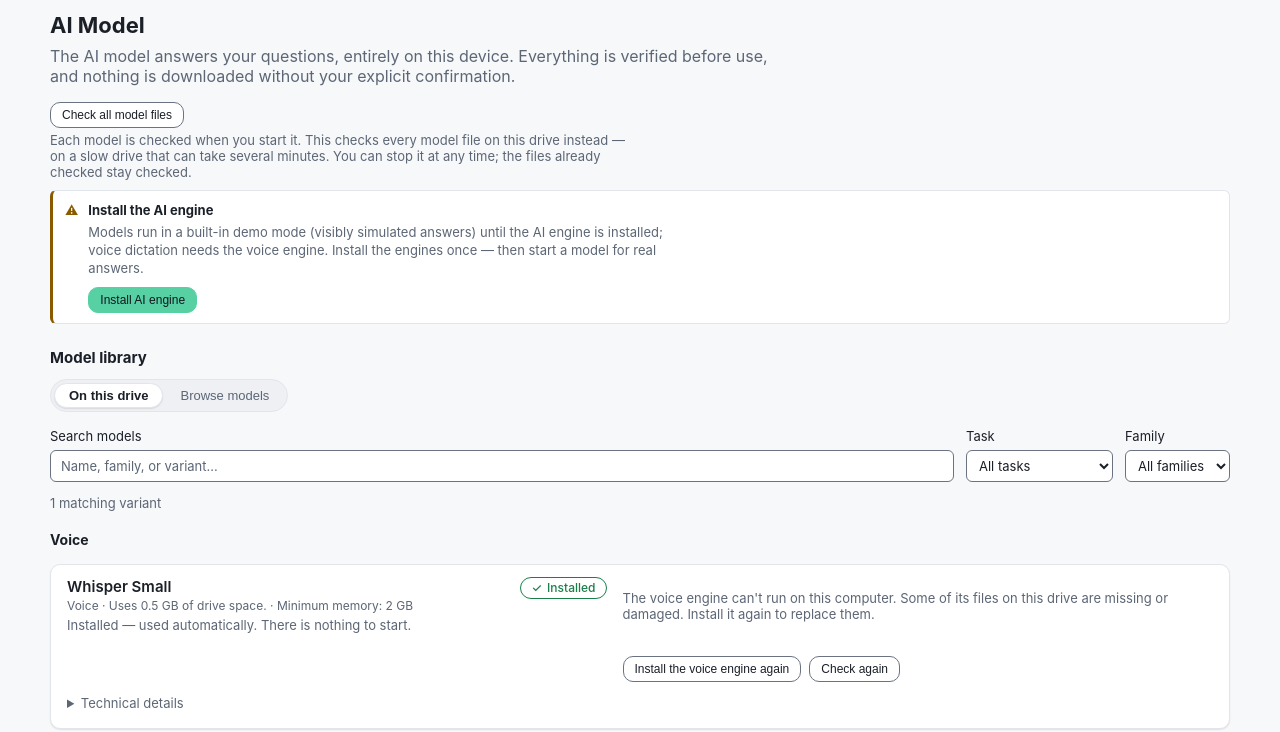
ModelsScreen — engine problem banner (#530) › Install the engine again (#532) › the voice engine hint offers its own quieter reinstall, and its progress stays on the speech-model card
This screenshot has width=1280, height=732.
Click the button "Install the voice engine again" at point(712, 669), box [622,656,801,682]
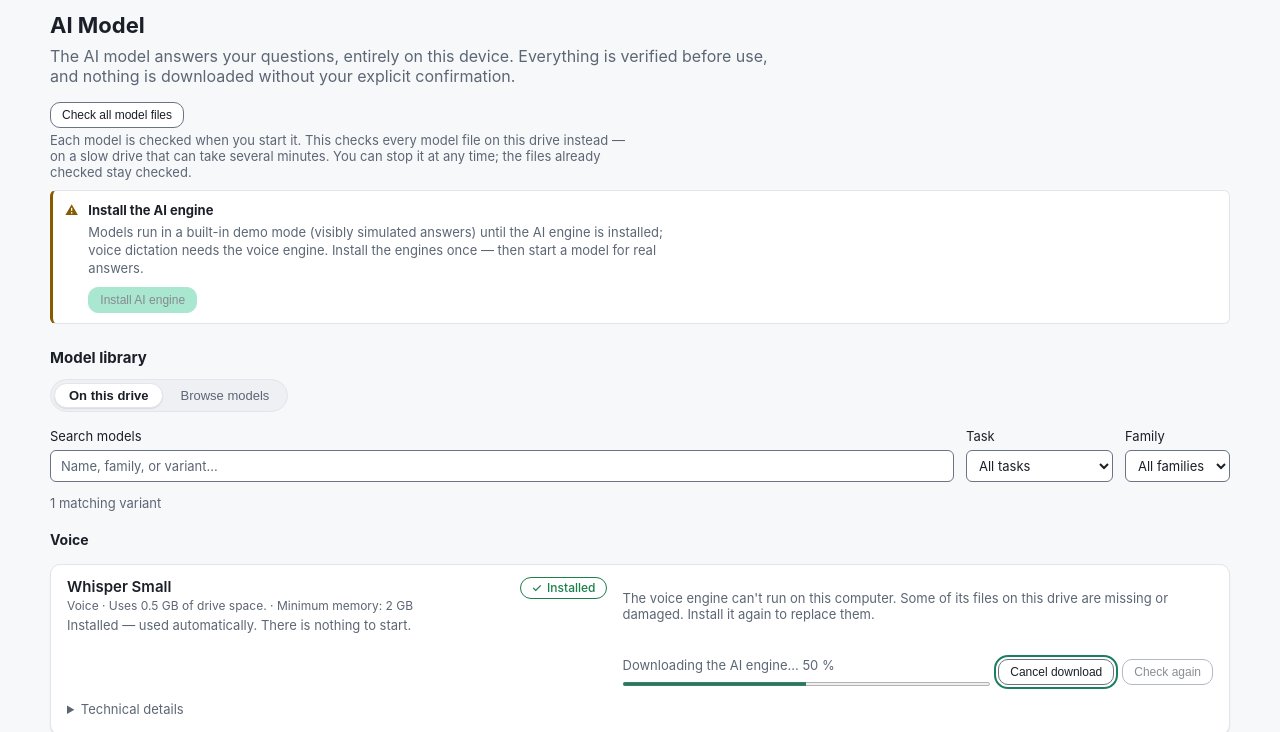
Now the button "Install AI engine" is disabled, box [88,287,197,313]
